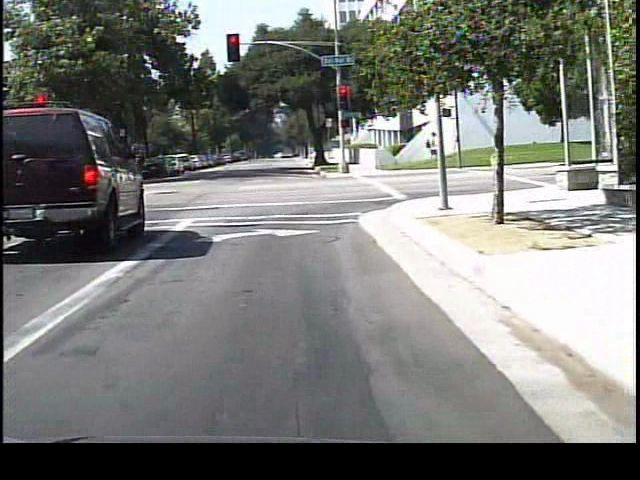person: (421, 127, 444, 170)
